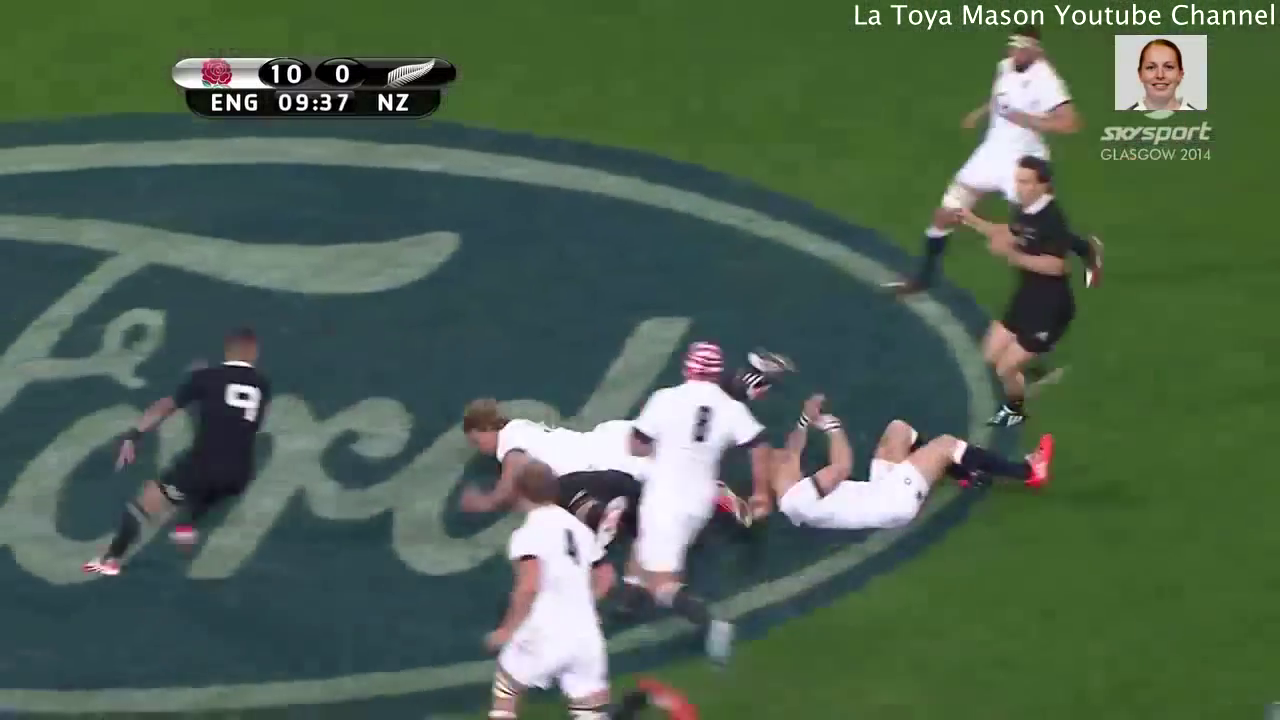player: (861, 18, 1117, 305), (465, 452, 705, 720), (609, 324, 763, 691), (77, 312, 284, 584), (750, 405, 1069, 537), (949, 151, 1094, 438), (417, 383, 721, 514)
